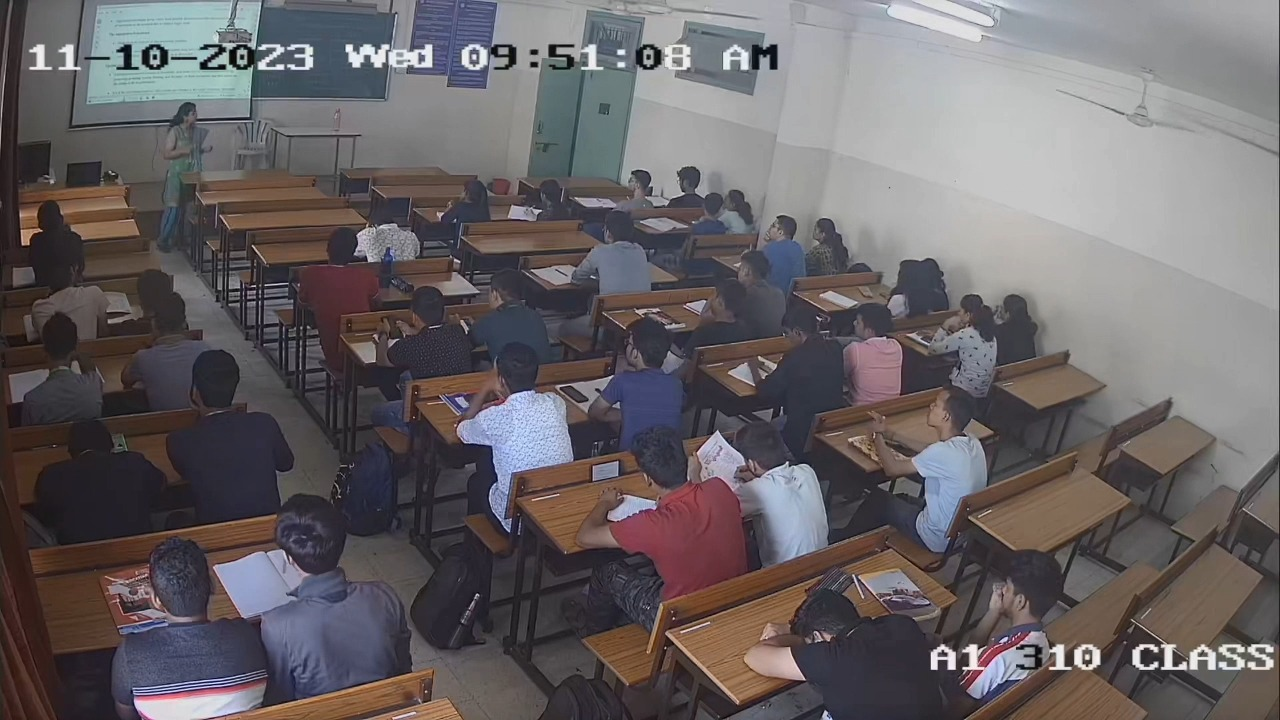cell-phones: (588, 458, 626, 485), (557, 383, 590, 405), (380, 313, 405, 340), (748, 357, 775, 375), (858, 284, 876, 299)
person: (569, 424, 748, 603), (593, 316, 687, 450), (374, 283, 471, 391), (753, 305, 844, 410), (885, 259, 933, 316)
